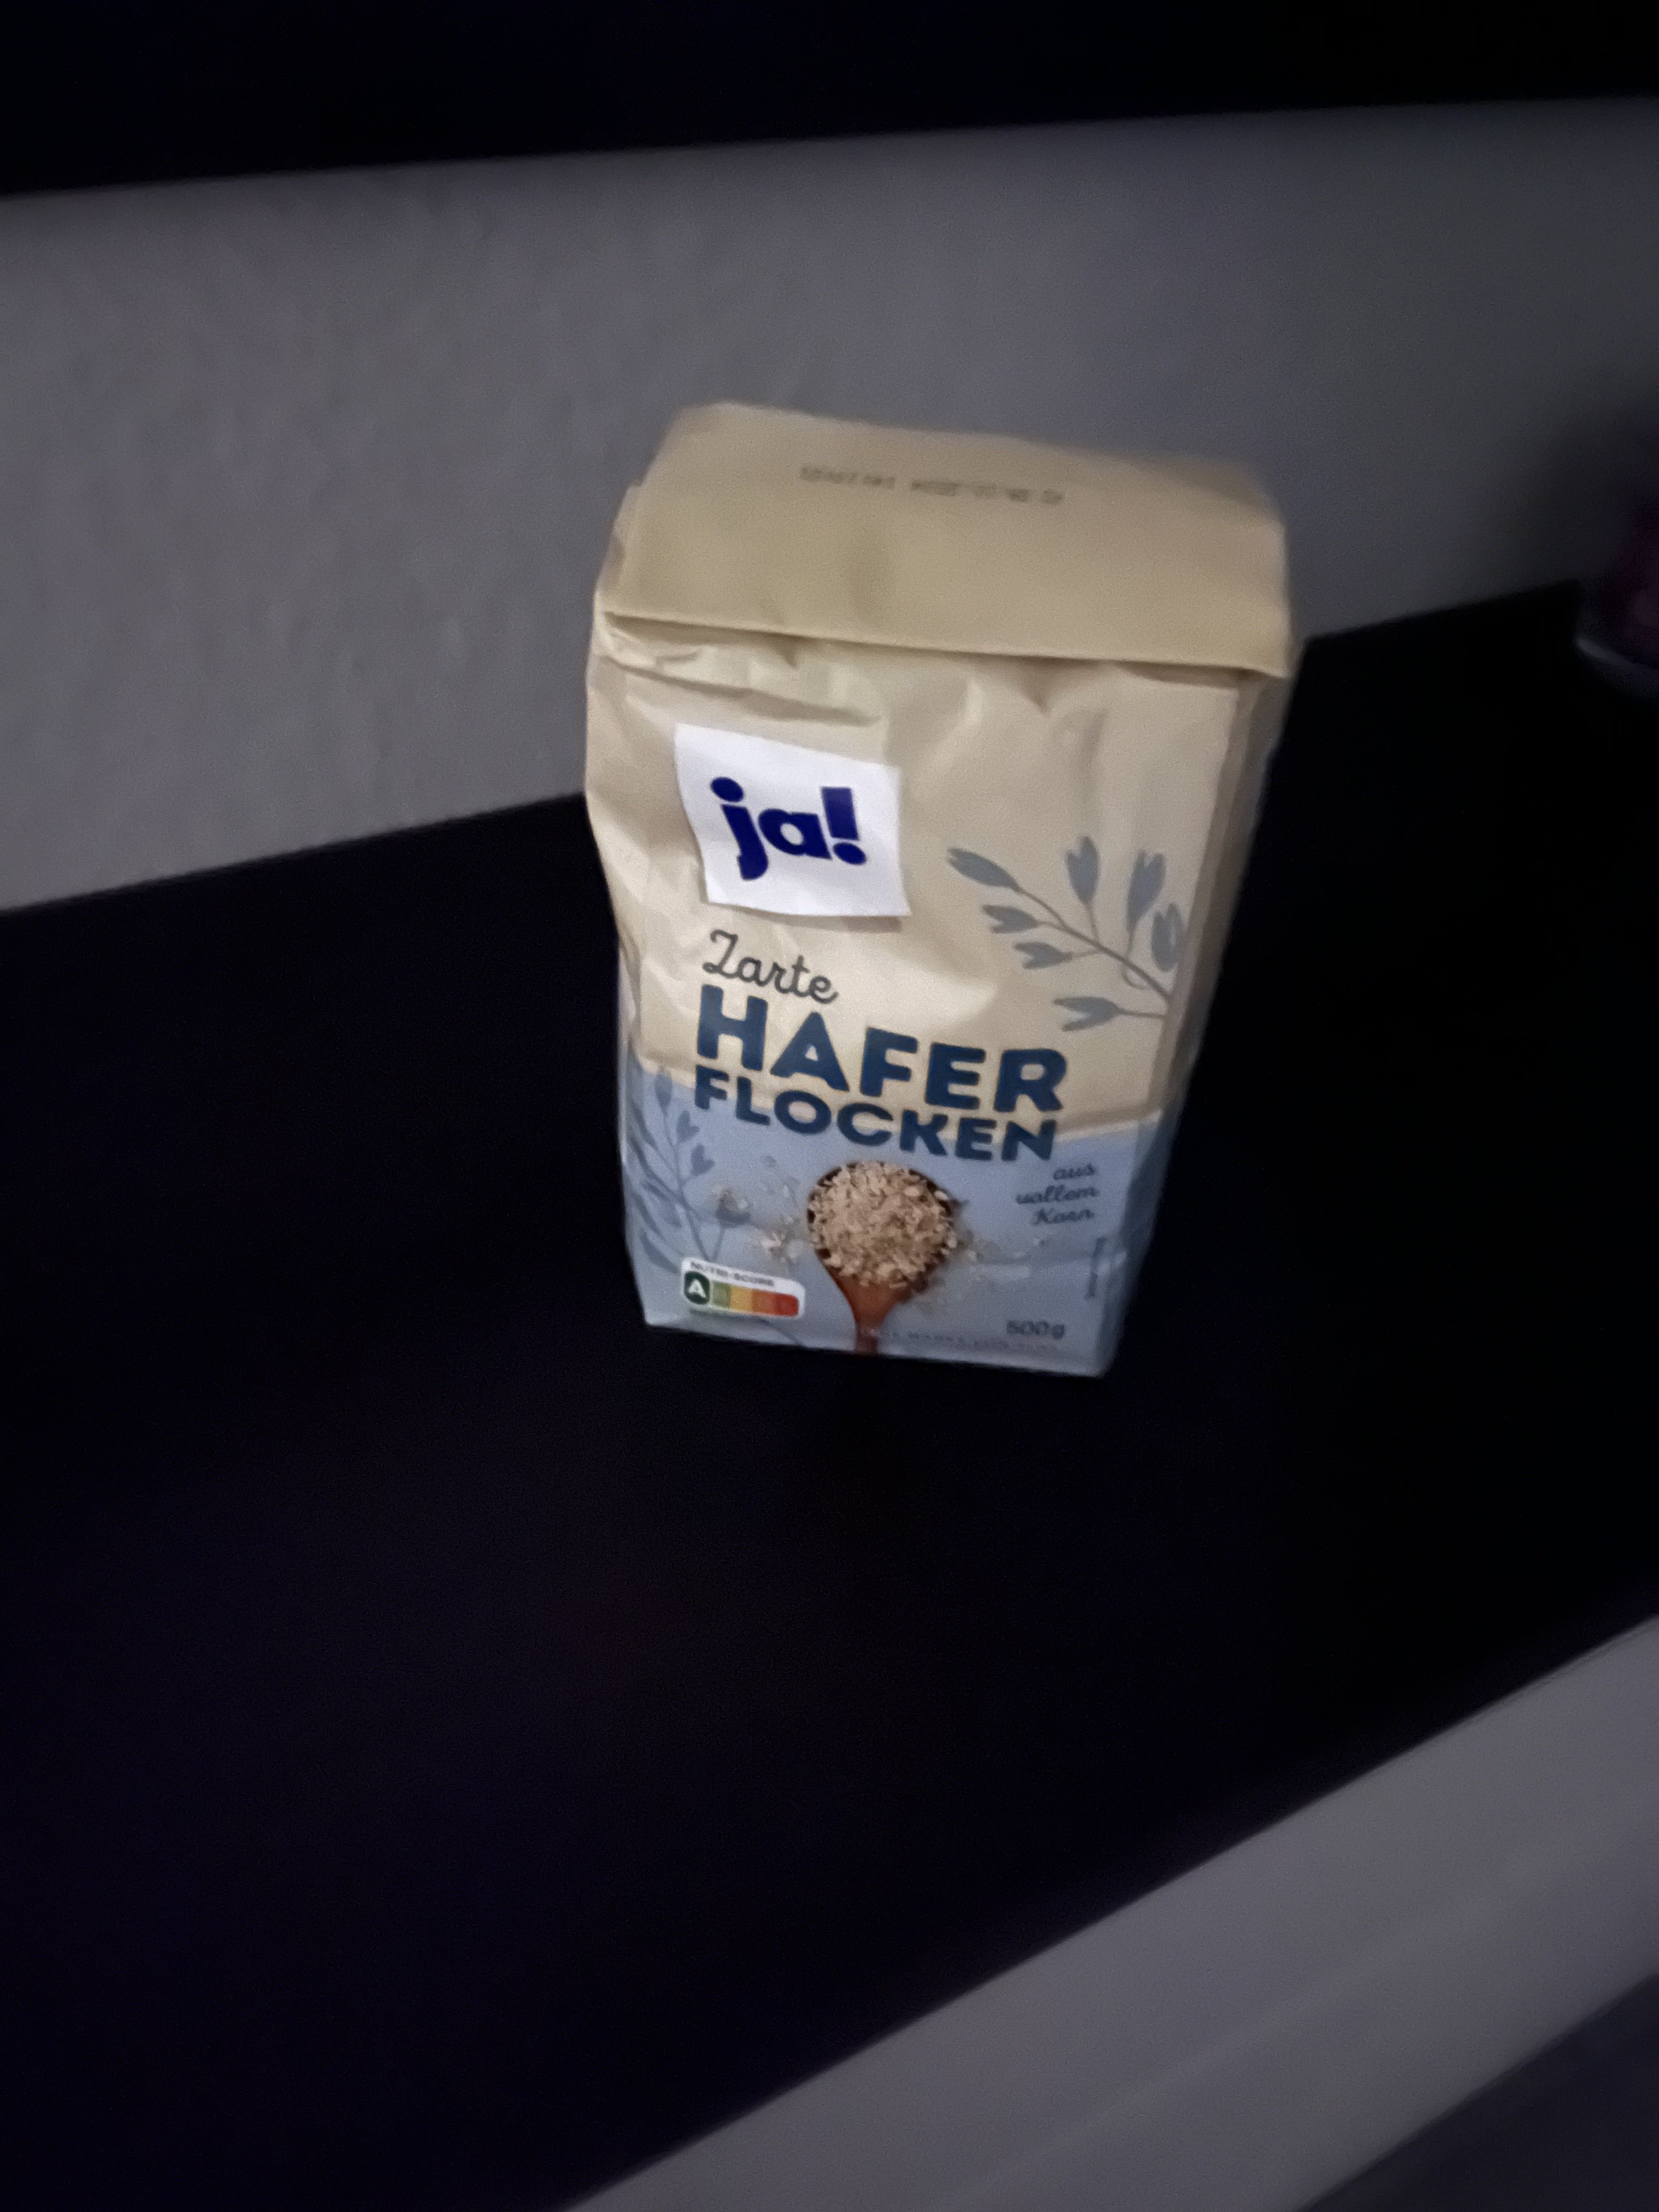haferflocken_ja: (587, 399, 1300, 1386)
